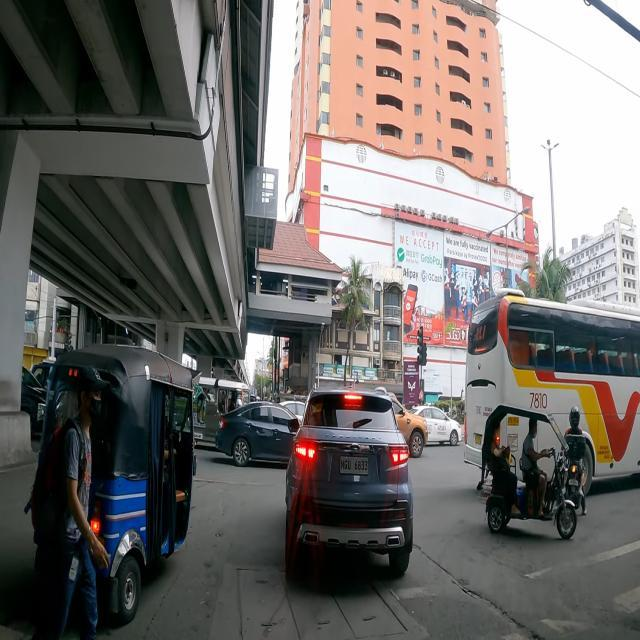bus: (464, 288, 640, 494)
car: (286, 388, 414, 576), (215, 402, 298, 466), (387, 392, 428, 458), (408, 403, 462, 446)
jeepney: (193, 376, 249, 449)
motorcycle: (563, 405, 587, 514)
tricycle: (24, 344, 198, 624), (482, 406, 576, 538)
